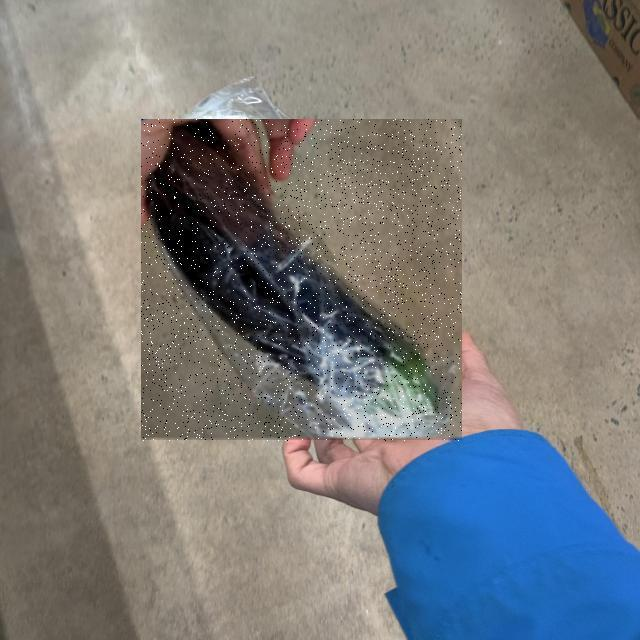Egg Plant: (141, 120, 462, 442)
